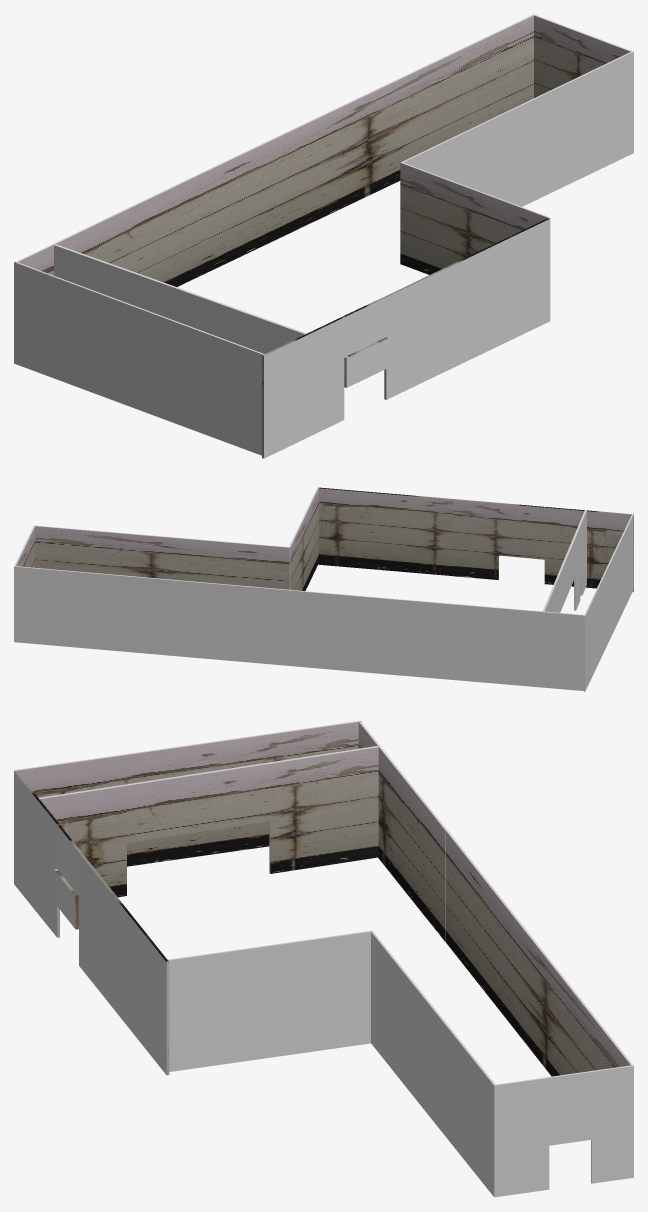
Rendered from paredes_hall.fbx.
3 views of the same model, one above another, from view 1: azimuth 30°, elevation 25°; view 2: azimuth 150°, elevation 25°; view 3: azimuth 270°, elevation 25° (orthographic). The views are drawn at different scales.
Parts seen in each view (by area): view 1: Pared.006, Pared.005, Pared.008, Pared.015, Pared.007, Pared.009, Pared.018, Pared.004, Pared.003; view 2: Pared.006, Pared.004, Pared.008, Pared.007, Pared.015, Pared.005, Pared.009, Pared.018, Pared.003; view 3: Pared.018, Pared.009, Pared.006, Pared.008, Pared.003, Pared.005, Pared.015, Pared.004, Pared.007.
Part boxes in pixels (x1,y1,x2,y2): Pared.006: (179, 15, 533, 285); Pared.005: (14, 261, 264, 455); Pared.008: (402, 51, 633, 206); Pared.015: (262, 277, 427, 458); Pared.007: (425, 218, 550, 379); Pared.009: (400, 162, 548, 274); Pared.018: (54, 244, 306, 353); Pared.004: (15, 183, 180, 286); Pared.003: (533, 14, 632, 98); Pared.006: (14, 566, 404, 675); Pared.004: (404, 599, 585, 690); Pared.008: (34, 525, 289, 589); Pared.007: (318, 487, 453, 575); Pared.015: (453, 499, 633, 591); Pared.005: (583, 513, 633, 691); Pared.009: (289, 487, 318, 590); Pared.018: (542, 510, 586, 612); Pared.003: (14, 525, 34, 642); Pared.018: (38, 746, 378, 897); Pared.009: (167, 930, 372, 1071); Pared.006: (445, 829, 632, 1076); Pared.008: (371, 931, 496, 1197); Pared.003: (494, 1065, 633, 1196); Pared.005: (14, 720, 361, 866); Pared.015: (14, 771, 102, 992); Pared.004: (358, 720, 446, 941); Pared.007: (100, 879, 169, 1075).
Bounding box in the file's own units: 6061 × 886 × 4344.
Materials: 2 (1 with a texture image).
